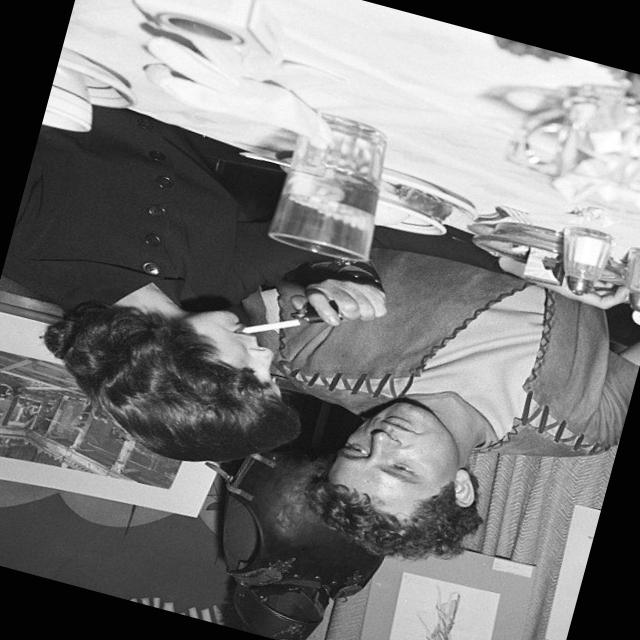smoke: (252, 307, 313, 343)
